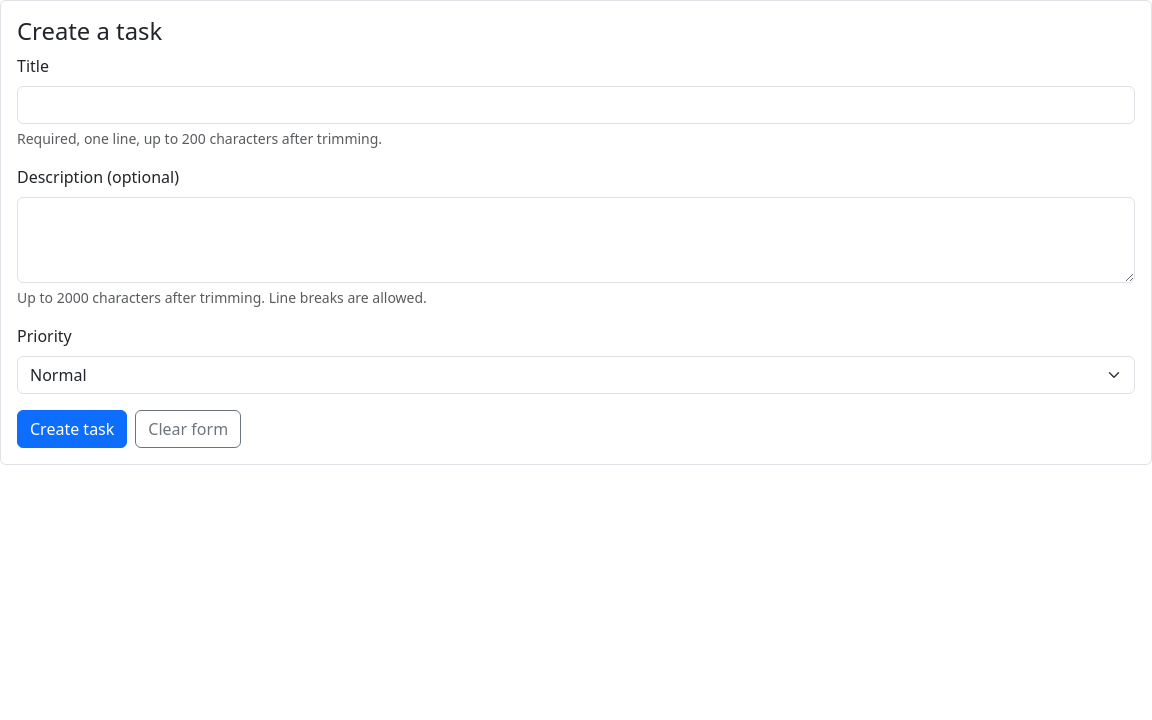
TaskCreateFormComponent HTTP integration › maps all server field errors, retaining entered values and allowing correction
Type " Learn Angular " into the field with id "task-title" at {"x": 576, "y": 105}, box [17,86,1135,124]
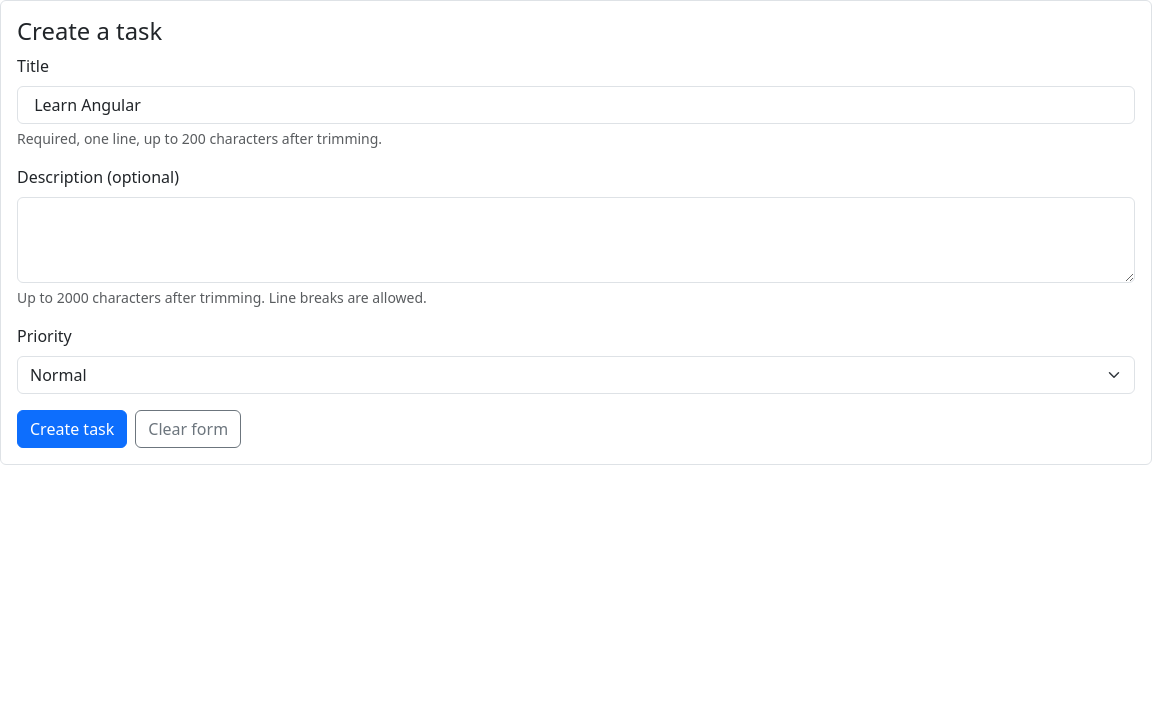
Submit the form, box [17,54,1135,448]
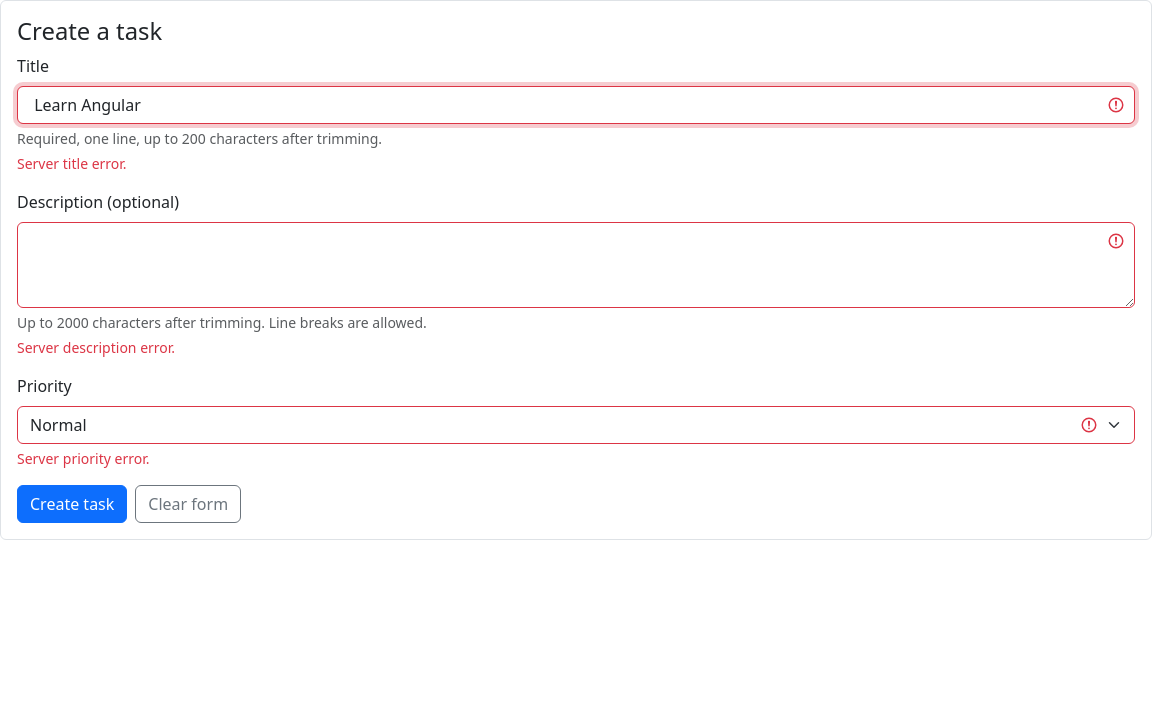
Now the text "Server title error." is shown, box [17,154,127,173]
Now the text "Server description error." is shown, box [17,338,175,357]
Now the text "Server priority error." is shown, box [17,449,150,468]
Replace the text in the field with id "task-title" with "Corrected" at {"x": 576, "y": 105}, box [17,86,1135,124]
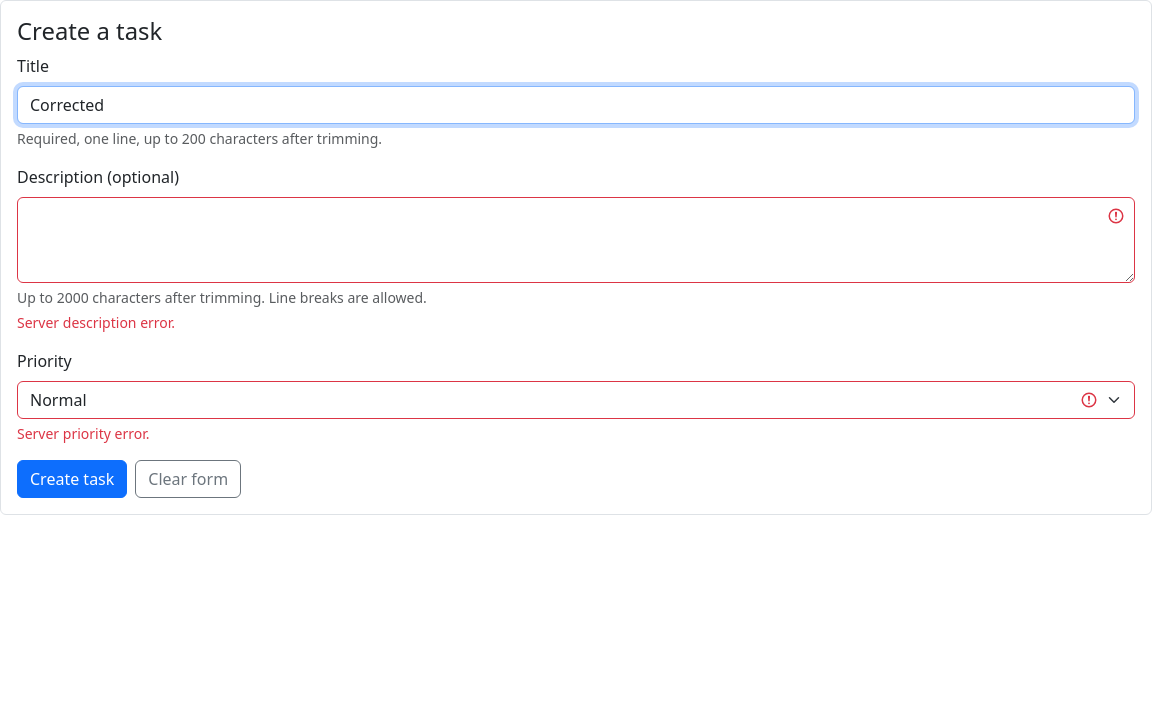
Now the element with id "task-title-errors" is gone
